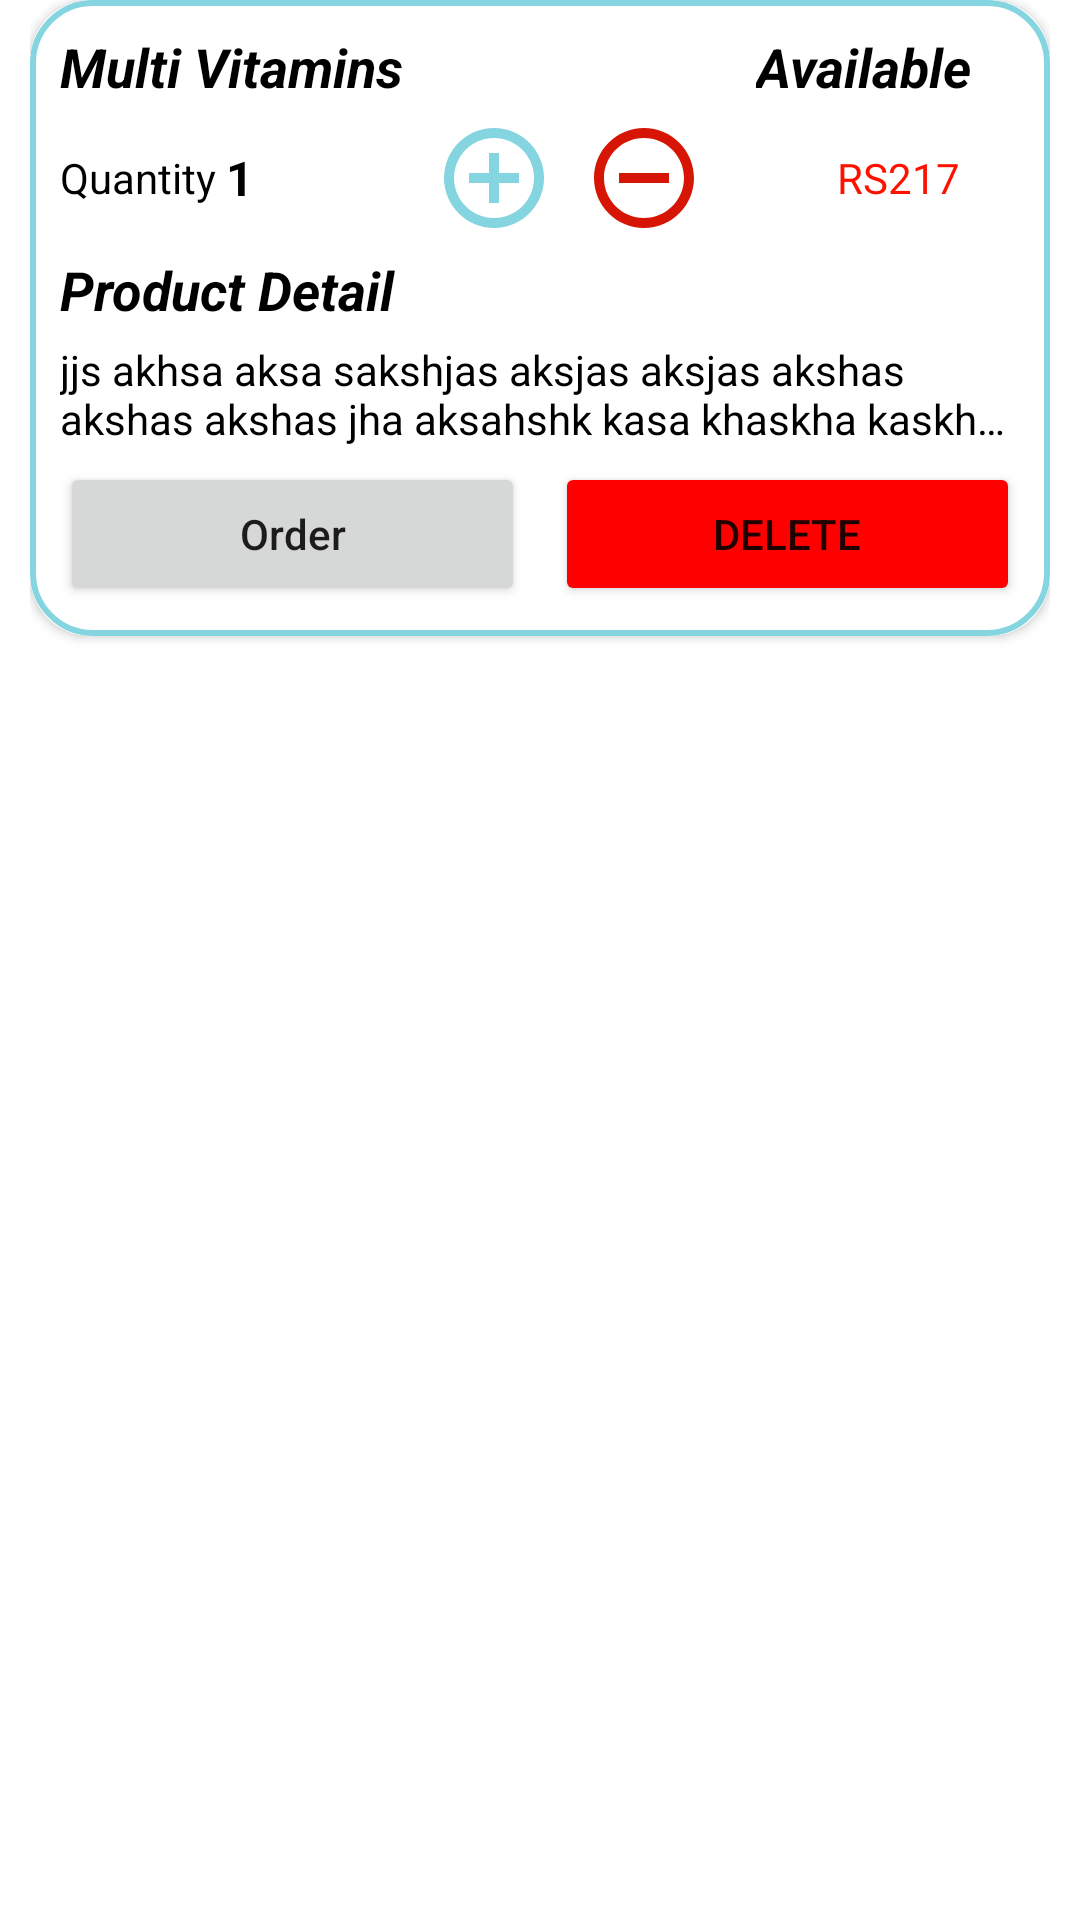

Screen size 1080 x 1920. Icon name, then its center in pixels as [x,y]:
add circle: [494,178]
remove circle: [644,178]
